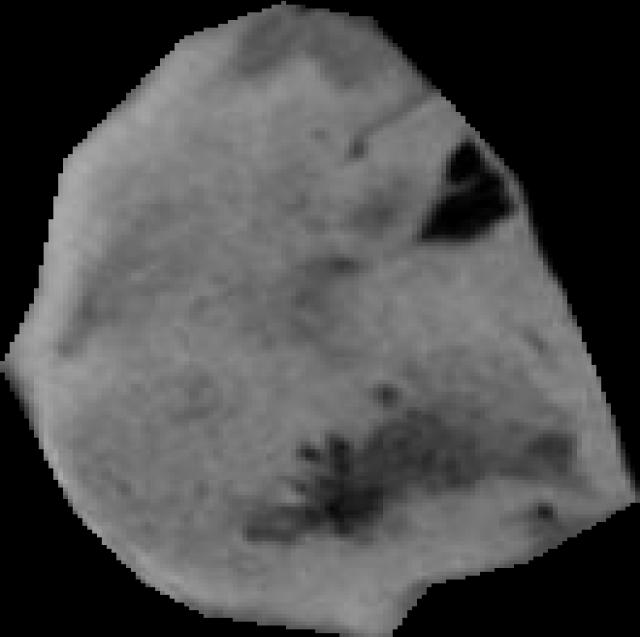tumor_less_chance: (0, 1, 640, 637)
